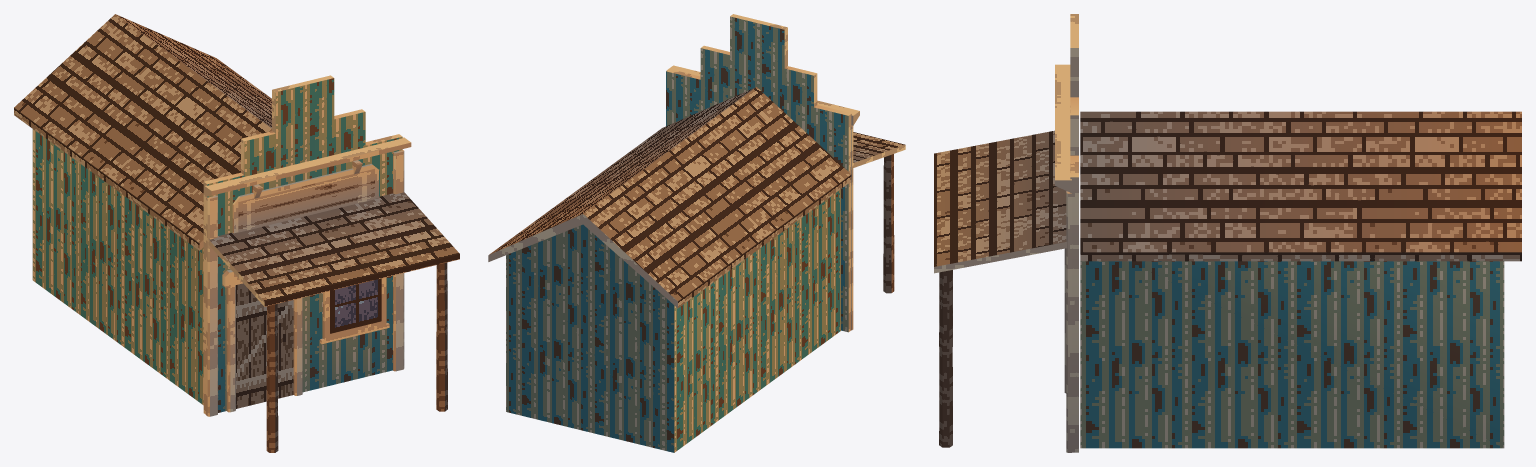
File: wtown.facade__b_stepped.glb
The picture shows the model from 3 angles, left to right: view 1: azimuth 30°, elevation 25°; view 2: azimuth 150°, elevation 25°; view 3: azimuth 270°, elevation 25°; orthographic projection. The views are drawn at different scales.
Parts seen in each view (by area): view 1: kit_roof, kit_body, kit_porch, kit_front, kit_card_panes, kit_trim, kit_windows; view 2: kit_body, kit_roof, kit_front, kit_porch, kit_trim; view 3: kit_body, kit_roof, kit_porch, kit_trim, kit_front.
Part boxes in pixels (x1,y1,x2,y2): kit_roof: (14,14,271,250); kit_body: (32,129,203,405); kit_porch: (208,192,459,452); kit_front: (203,75,402,414); kit_card_panes: (236,169,381,408); kit_trim: (204,137,411,416); kit_windows: (320,277,389,344); kit_body: (506,189,840,452); kit_roof: (488,87,851,308); kit_front: (666,14,851,332); kit_porch: (853,132,905,293); kit_trim: (667,65,859,330); kit_body: (1080,261,1504,448); kit_roof: (1080,111,1521,261); kit_porch: (934,130,1067,447); kit_trim: (1055,64,1071,452); kit_front: (1070,14,1078,452).
Size of the model in its own units: 3.94 by 5.7 by 8.32.
7 materials, 7 textured.
